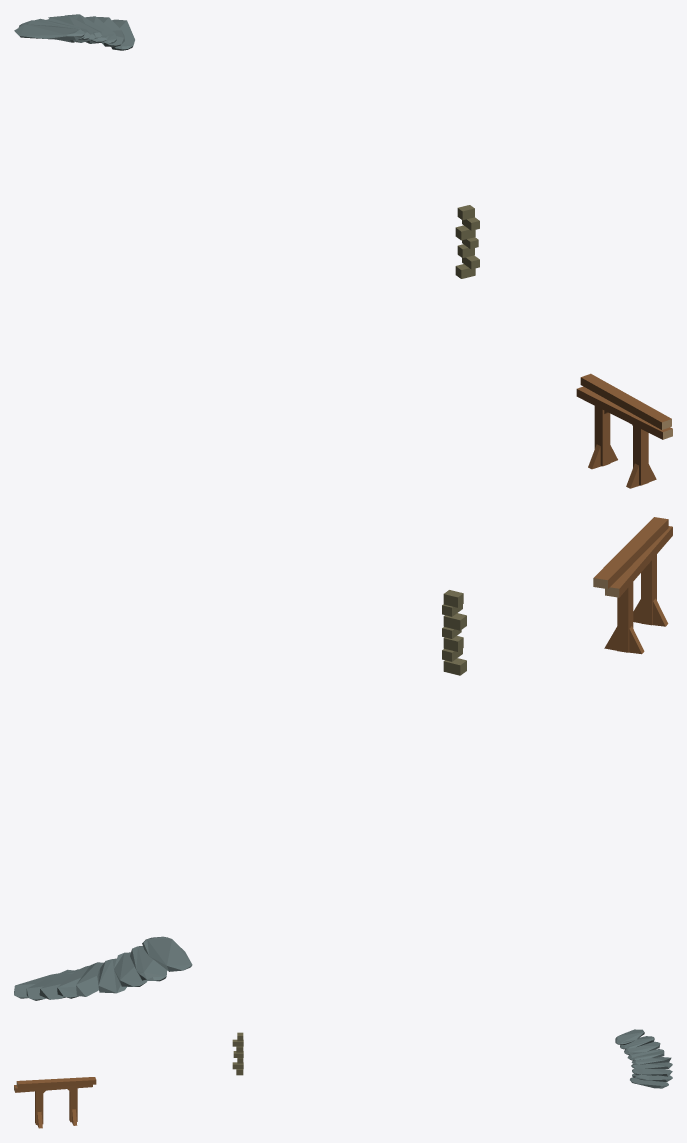
The picture shows the model from 3 angles, top to bottom: view 1: azimuth 30°, elevation 25°; view 2: azimuth 150°, elevation 25°; view 3: azimuth 270°, elevation 25°; orthographic projection. The views are drawn at different scales.
Parts seen in each view (by area): view 1: Box15035_brown_0, Box796_rock_0, Box15352_rock2_0; view 2: Box796_rock_0, Box15035_brown_0, Box15352_rock2_0; view 3: Box796_rock_0, Box15035_brown_0, Box15352_rock2_0.
Boxes of the visible parts, left/top/right/bottom form: Box15035_brown_0: left=576, top=373, right=672, bottom=488; Box796_rock_0: left=14, top=14, right=134, bottom=50; Box15352_rock2_0: left=455, top=205, right=479, bottom=278; Box796_rock_0: left=14, top=936, right=192, bottom=1000; Box15035_brown_0: left=594, top=517, right=672, bottom=654; Box15352_rock2_0: left=442, top=590, right=466, bottom=675; Box796_rock_0: left=615, top=1029, right=672, bottom=1088; Box15035_brown_0: left=14, top=1077, right=96, bottom=1128; Box15352_rock2_0: left=232, top=1032, right=243, bottom=1075.
Bounding box in the file's own units: 603 × 667 × 4480.
